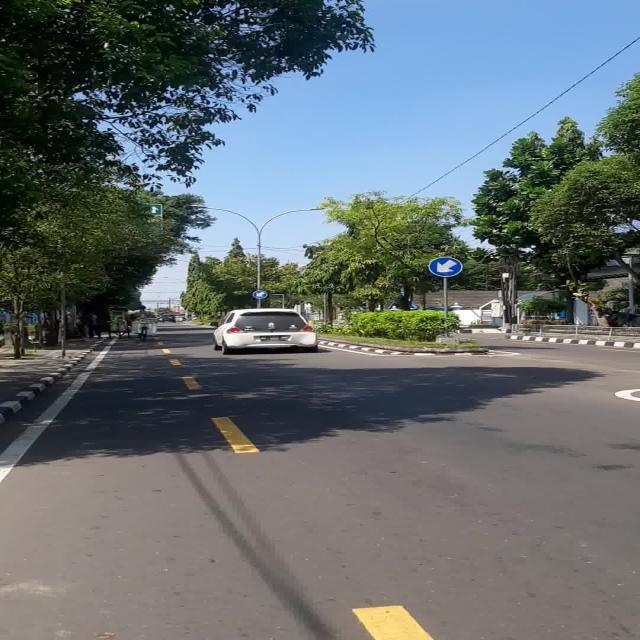Lajur Kiri: (428, 257, 463, 277)
